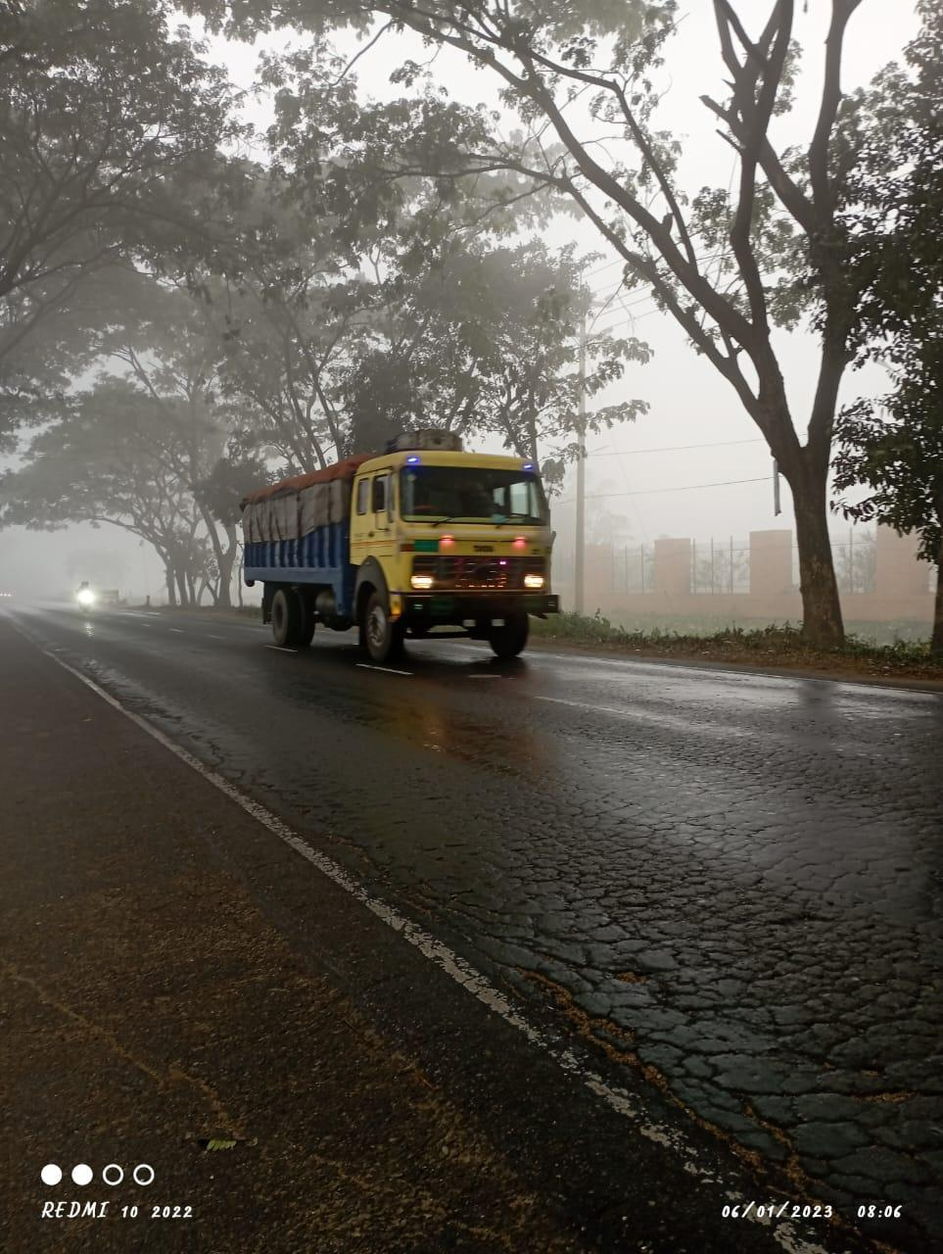Car: (71, 579, 100, 615)
Truck: (223, 428, 558, 669)
